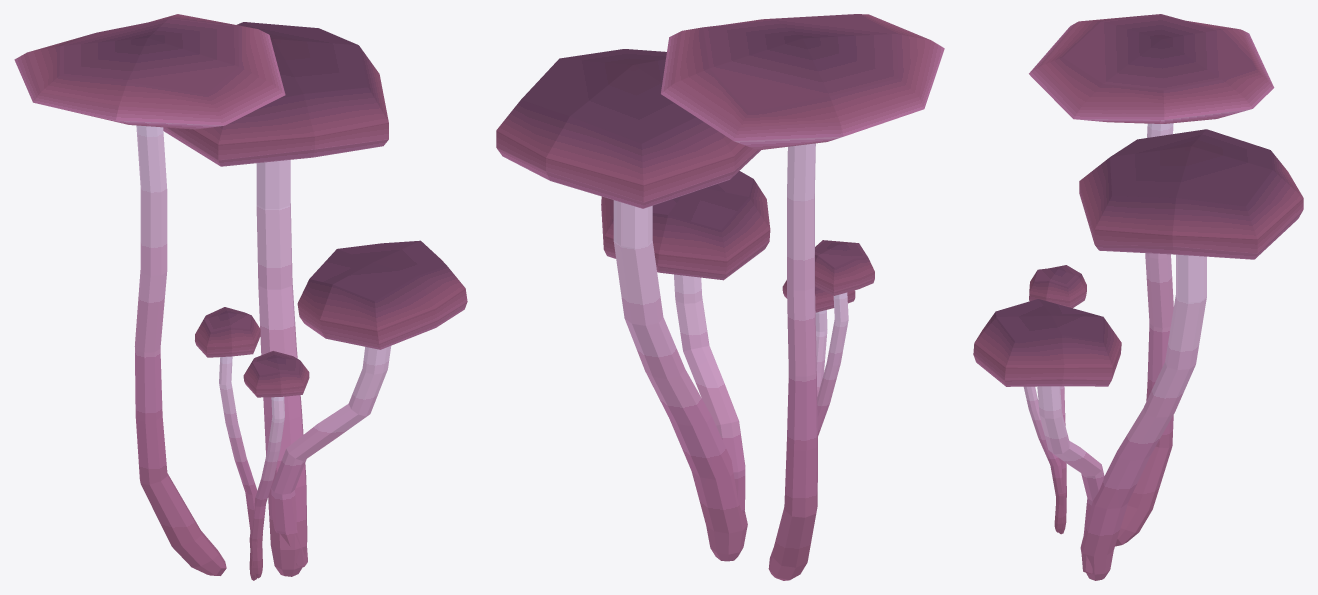
The model's file is Amethyst_Bunch.glb.
3 renders of one model, left to right at view 1: azimuth 30°, elevation 25°; view 2: azimuth 150°, elevation 25°; view 3: azimuth 270°, elevation 25°, orthographic. The views are drawn at different scales.
Visible parts, largest first — view 1: Cube.005; view 2: Cube.005; view 3: Cube.005.
Part boxes in pixels (bbox=[...]): Cube.005: bbox=[14, 14, 467, 580]; Cube.005: bbox=[496, 14, 944, 580]; Cube.005: bbox=[973, 14, 1303, 580].
Bounding box in the file's own units: 1.38 × 1.99 × 1.21.
Materials: 1 (1 with a texture image).
